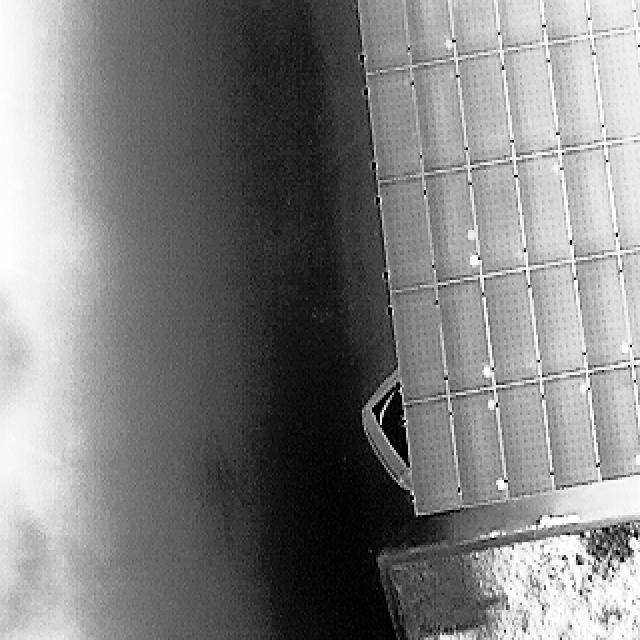Hotspots: (479, 355, 495, 381), (462, 250, 481, 270), (614, 339, 632, 358), (489, 474, 506, 494), (575, 378, 591, 398), (483, 394, 498, 414), (444, 35, 458, 55), (630, 445, 640, 470)
PV-modules: (525, 257, 590, 382), (480, 269, 545, 393), (571, 250, 634, 375), (453, 48, 517, 171), (500, 38, 563, 162), (541, 368, 602, 494), (389, 282, 450, 408), (467, 156, 530, 278), (513, 149, 576, 271), (558, 141, 621, 263), (545, 33, 608, 154), (495, 384, 557, 506), (435, 275, 496, 399), (376, 172, 437, 295), (423, 165, 484, 286), (411, 56, 471, 177), (365, 65, 425, 185), (402, 395, 461, 517), (449, 386, 508, 508), (586, 360, 640, 485), (590, 26, 640, 146), (356, 0, 414, 76), (604, 134, 640, 255), (403, 0, 458, 69), (448, 0, 502, 61), (494, 0, 548, 54), (617, 246, 640, 366), (539, 0, 594, 46), (587, 0, 640, 39), (630, 358, 640, 446), (631, 0, 640, 31), (635, 23, 640, 67)
